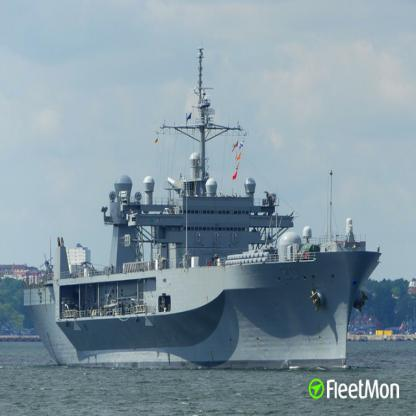Military Ship: (23, 49, 384, 372)
